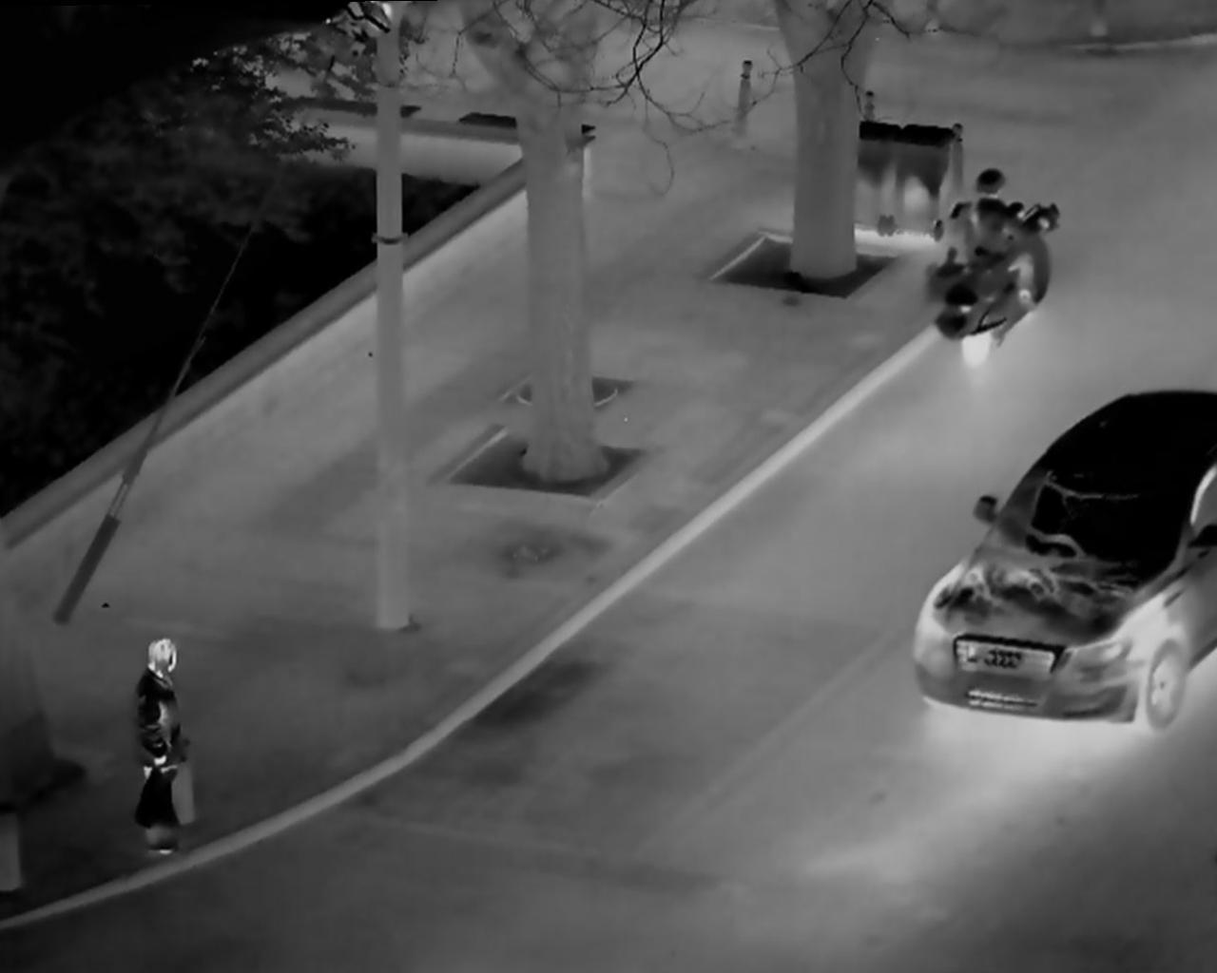person: (107, 630, 215, 867), (937, 154, 1045, 373)
